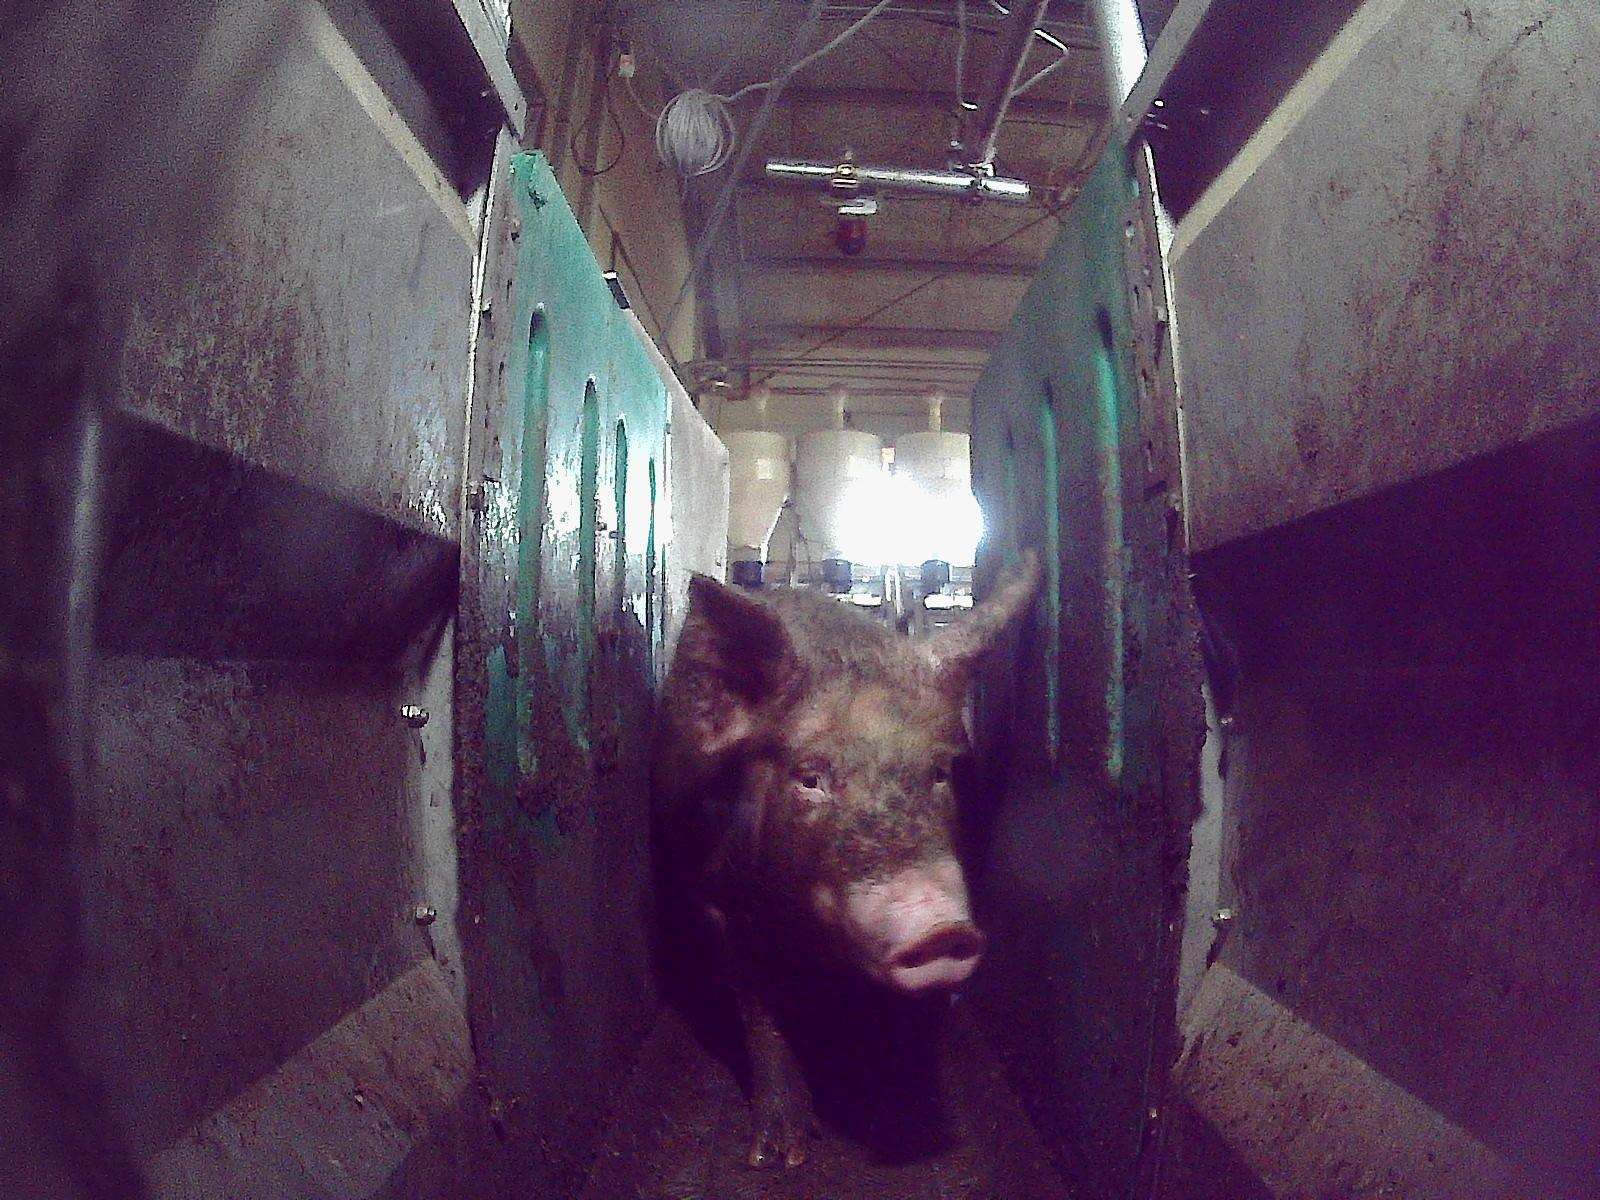Face: (746, 661, 985, 992)
